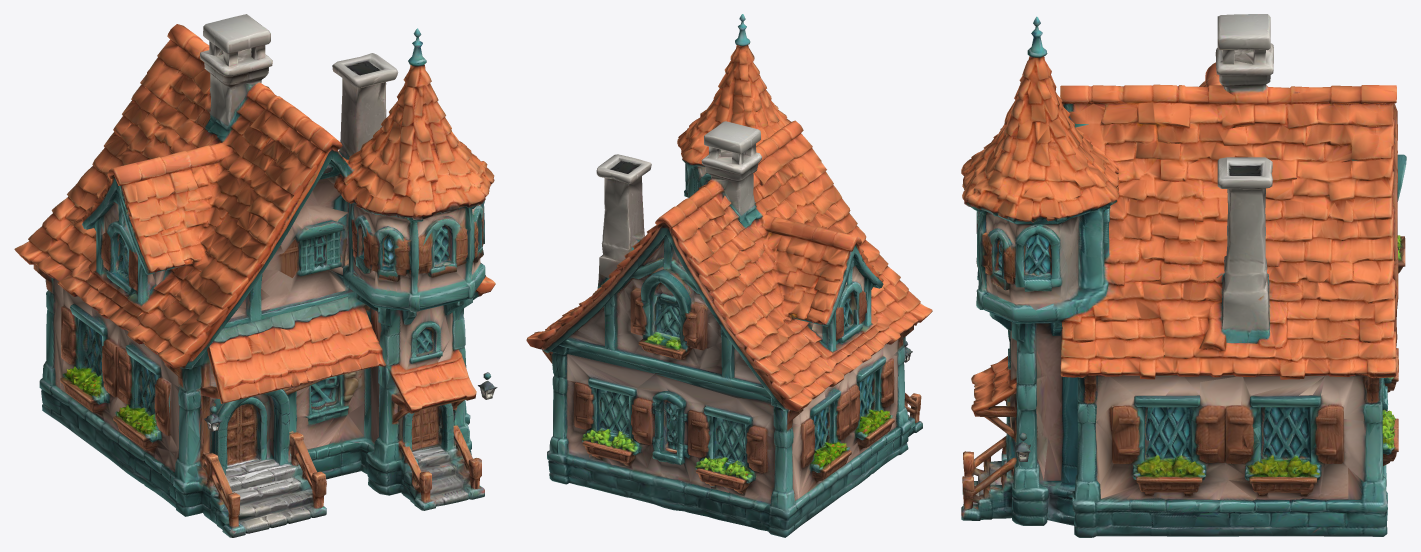
File: Ember_Tiled_Turret_Ho.glb
3 views of the same model, side by side, from view 1: azimuth 30°, elevation 25°; view 2: azimuth 150°, elevation 25°; view 3: azimuth 270°, elevation 25° (orthographic). The views are drawn at different scales.
Parts seen in each view (by area): view 1: Ember_Tiled_Turret_Ho; view 2: Ember_Tiled_Turret_Ho; view 3: Ember_Tiled_Turret_Ho.
Part boxes in pixels (box(x1,y1,x2,y2)): Ember_Tiled_Turret_Ho: box(14, 14, 497, 537); Ember_Tiled_Turret_Ho: box(526, 14, 932, 537); Ember_Tiled_Turret_Ho: box(961, 14, 1406, 537).
Bounding box in the file's own units: 1.45 × 1.9 × 1.58.
1 material, 1 textured.
